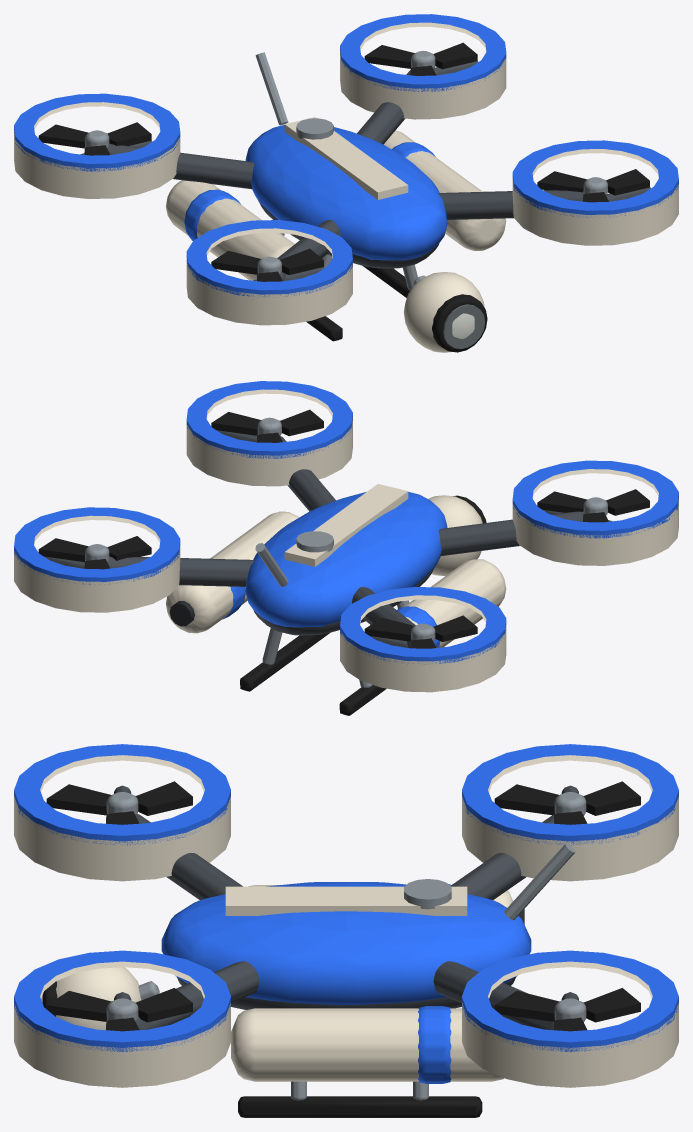
Rendered from long_range_drone.glb.
3 renders of one model, top to bottom at view 1: azimuth 30°, elevation 25°; view 2: azimuth 150°, elevation 25°; view 3: azimuth 270°, elevation 25°, orthographic. The views are drawn at different scales.
Visible parts, largest first — view 1: airframe__M_Team, airframe__M_SmokePlastic, lrd_fan_l_f__M_CreamPlastic, lrd_fan_r_f__M_CreamPlastic, lrd_fan_r_b__M_CreamPlastic, lrd_fan_l_b__M_CreamPlastic, lrd_fan_r_b__M_Team, lrd_fan_r_f__M_Team, lrd_fan_l_b__M_Team, lrd_fan_l_f__M_Team, lrd_fuel_r__M_CreamPlastic, lrd_sensor_yaw__M_CreamPlastic (+12 smaller); view 2: airframe__M_Team, airframe__M_SmokePlastic, lrd_fan_r_b__M_CreamPlastic, lrd_fan_l_b__M_CreamPlastic, lrd_fan_r_f__M_CreamPlastic, lrd_fan_l_f__M_CreamPlastic, lrd_fan_r_f__M_Team, lrd_fan_l_f__M_Team, lrd_fan_r_b__M_Team, lrd_fan_l_b__M_Team, lrd_fuel_l__M_CreamPlastic, lrd_fuel_r__M_CreamPlastic (+10 smaller); view 3: airframe__M_Team, lrd_fuel_l__M_CreamPlastic, lrd_fan_l_b__M_CreamPlastic, lrd_fan_l_f__M_CreamPlastic, airframe__M_SmokePlastic, lrd_fan_r_f__M_CreamPlastic, lrd_fan_r_b__M_CreamPlastic, lrd_fan_l_b__M_Team, lrd_fan_l_f__M_Team, lrd_fan_r_f__M_Team, lrd_fan_r_b__M_Team, airframe__M_CreamPlastic (+13 smaller).
Part boxes in pixels (x1=…): airframe__M_Team: x1=245, y1=125, x2=447, y2=260; airframe__M_SmokePlastic: x1=107, y1=70, x2=584, y2=281; lrd_fan_l_f__M_CreamPlastic: x1=512, y1=149, x2=678, y2=245; lrd_fan_r_f__M_CreamPlastic: x1=186, y1=228, x2=352, y2=325; lrd_fan_r_b__M_CreamPlastic: x1=14, y1=102, x2=180, y2=198; lrd_fan_l_b__M_CreamPlastic: x1=340, y1=22, x2=506, y2=119; lrd_fan_r_b__M_Team: x1=14, y1=93, x2=180, y2=171; lrd_fan_r_f__M_Team: x1=186, y1=220, x2=352, y2=297; lrd_fan_l_b__M_Team: x1=340, y1=14, x2=506, y2=91; lrd_fan_l_f__M_Team: x1=512, y1=140, x2=678, y2=217; lrd_fuel_r__M_CreamPlastic: x1=166, y1=180, x2=294, y2=280; lrd_sensor_yaw__M_CreamPlastic: x1=404, y1=272, x2=484, y2=352; airframe__M_Team: x1=245, y1=492, x2=447, y2=627; airframe__M_SmokePlastic: x1=107, y1=436, x2=584, y2=648; lrd_fan_r_b__M_CreamPlastic: x1=340, y1=595, x2=506, y2=692; lrd_fan_l_b__M_CreamPlastic: x1=14, y1=515, x2=180, y2=612; lrd_fan_r_f__M_CreamPlastic: x1=512, y1=469, x2=678, y2=565; lrd_fan_l_f__M_CreamPlastic: x1=186, y1=389, x2=352, y2=486; lrd_fan_r_f__M_Team: x1=512, y1=460, x2=678, y2=538; lrd_fan_l_f__M_Team: x1=186, y1=381, x2=352, y2=458; lrd_fan_r_b__M_Team: x1=340, y1=587, x2=506, y2=664; lrd_fan_l_b__M_Team: x1=14, y1=507, x2=180, y2=584; lrd_fuel_l__M_CreamPlastic: x1=166, y1=511, x2=298, y2=633; lrd_fuel_r__M_CreamPlastic: x1=404, y1=559, x2=506, y2=647; airframe__M_Team: x1=161, y1=882, x2=531, y2=1004; lrd_fuel_l__M_CreamPlastic: x1=231, y1=1008, x2=504, y2=1081; lrd_fan_l_b__M_CreamPlastic: x1=462, y1=961, x2=678, y2=1087; lrd_fan_l_f__M_CreamPlastic: x1=14, y1=961, x2=230, y2=1087; airframe__M_SmokePlastic: x1=135, y1=814, x2=555, y2=1030; lrd_fan_r_f__M_CreamPlastic: x1=14, y1=755, x2=230, y2=881; lrd_fan_r_b__M_CreamPlastic: x1=462, y1=755, x2=678, y2=881; lrd_fan_l_b__M_Team: x1=462, y1=950, x2=678, y2=1052; lrd_fan_l_f__M_Team: x1=14, y1=950, x2=230, y2=1051; lrd_fan_r_f__M_Team: x1=14, y1=744, x2=230, y2=845; lrd_fan_r_b__M_Team: x1=462, y1=744, x2=678, y2=845; airframe__M_CreamPlastic: x1=225, y1=886, x2=467, y2=915.
Bounding box in the file's own units: 1.04 × 0.3913 × 0.98.
